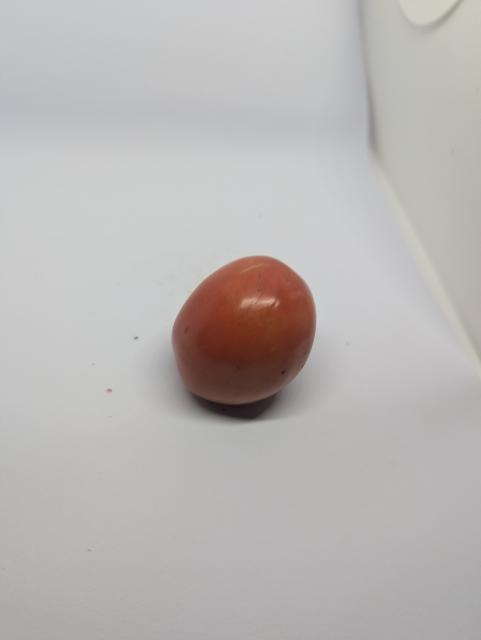red: (165, 251, 325, 408)
